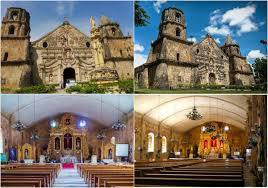miagao_church_miagao_iloilo: (1, 6, 132, 88), (147, 5, 258, 89)
